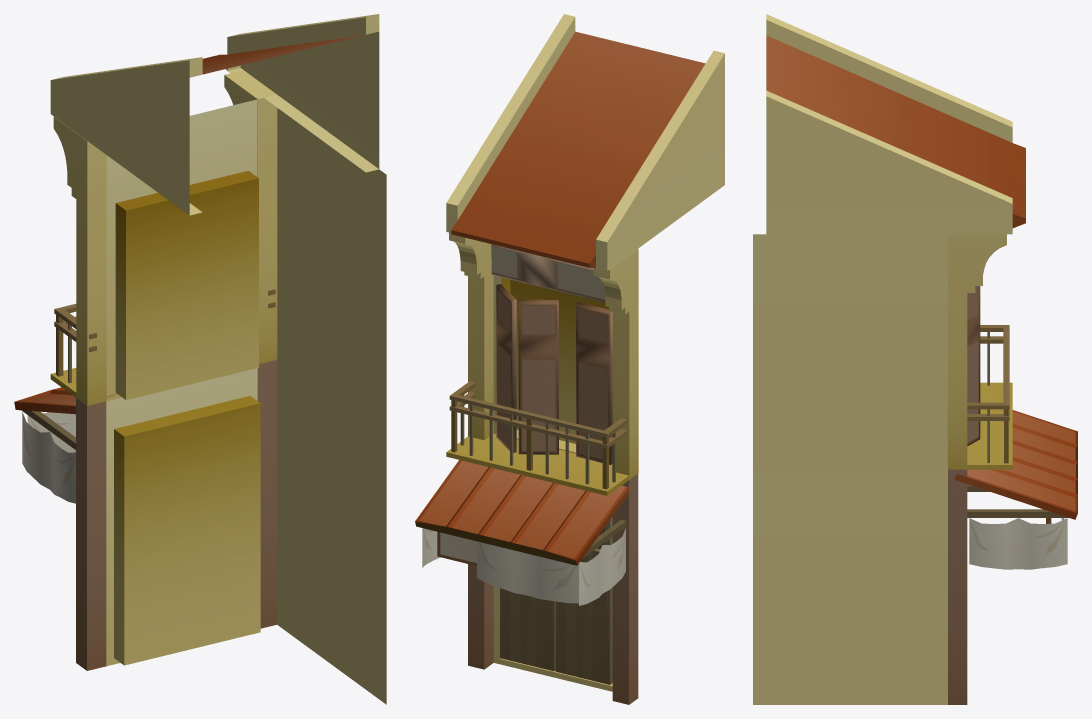
File: SM_Facade_simple_fuze_02.fbx
3 views of the same model, side by side, from view 1: azimuth 30°, elevation 25°; view 2: azimuth 150°, elevation 25°; view 3: azimuth 270°, elevation 25° (orthographic). The views are drawn at different scales.
Visible parts, largest first — view 1: SM_Facade_simple_fuze_02; view 2: SM_Facade_simple_fuze_02; view 3: SM_Facade_simple_fuze_02.
Part boxes in pixels (left/top/right/bottom): SM_Facade_simple_fuze_02: left=14, top=14, right=386, bottom=704; SM_Facade_simple_fuze_02: left=415, top=14, right=724, bottom=704; SM_Facade_simple_fuze_02: left=753, top=14, right=1077, bottom=704.
Size of the model in its own units: 300 by 1035 by 500.
